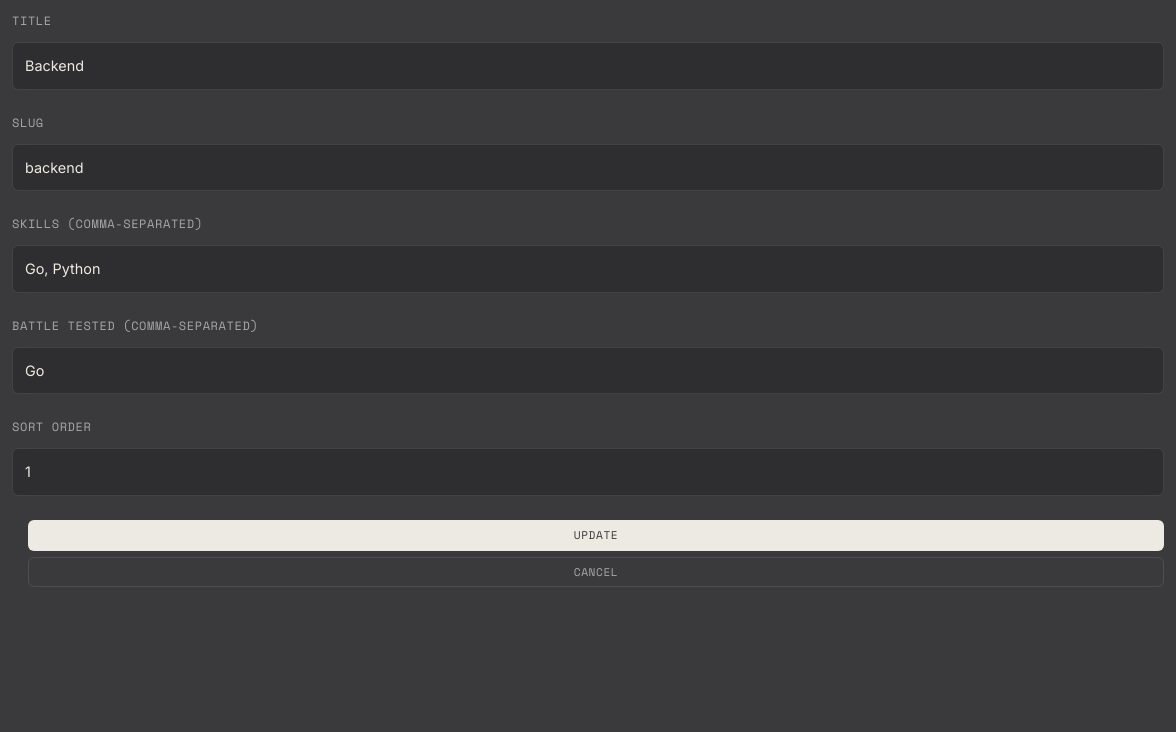
Test case: SkillEditor › shows error state on save failure
Click the button "UPDATE" at (596, 535), box [28,520,1164,551]
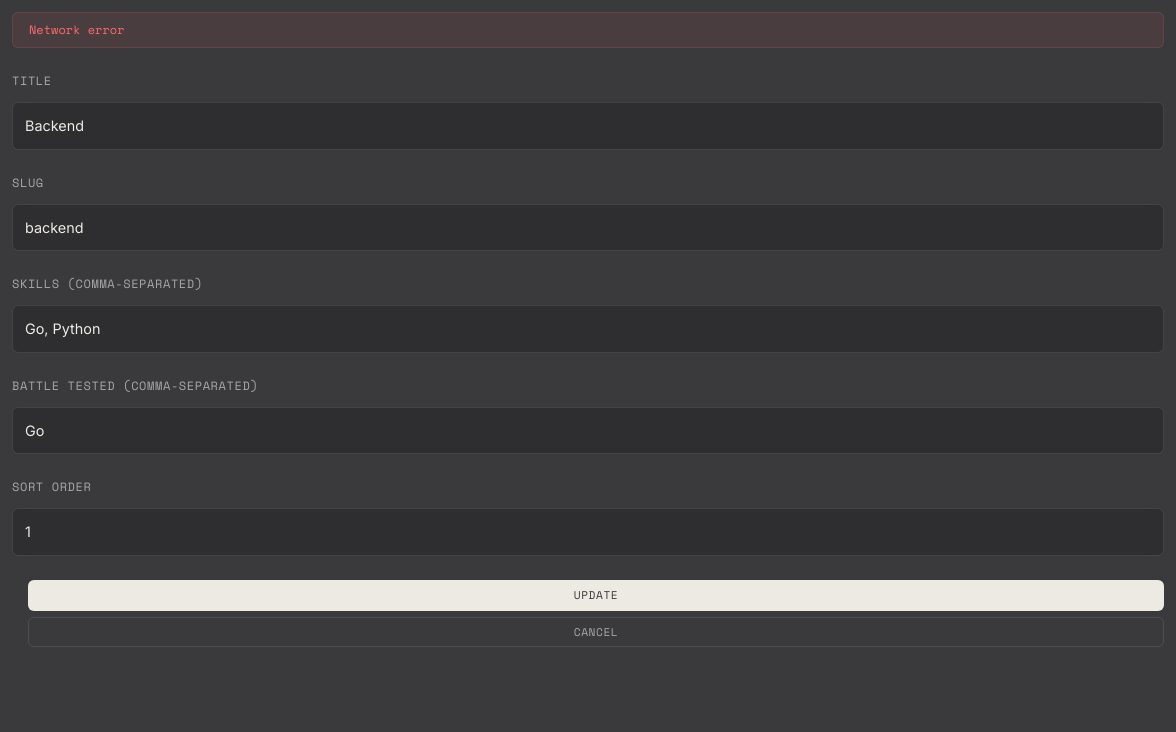
Now the text "Network error" is shown, box [12,12,1164,48]
